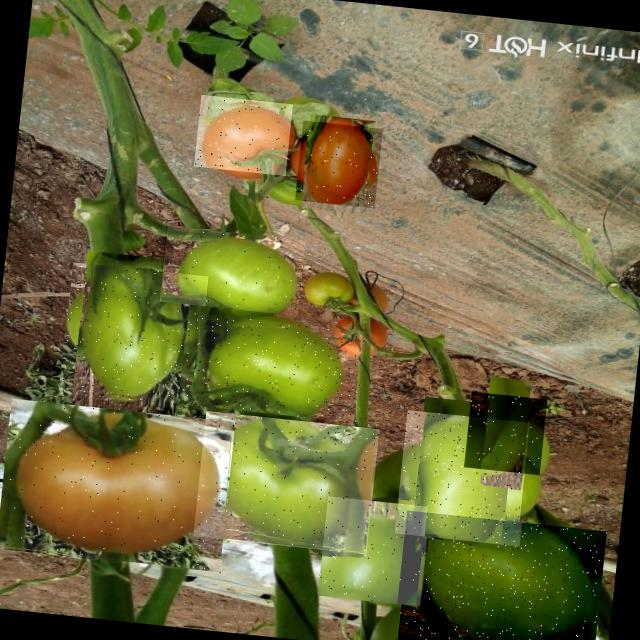Ripe Tomato: (0, 398, 237, 573), (194, 94, 292, 176), (294, 120, 382, 208)
Unripe Tomato: (392, 510, 606, 640), (192, 411, 378, 554), (58, 262, 204, 409), (190, 314, 365, 422), (394, 410, 530, 546), (156, 226, 304, 316), (317, 496, 427, 606), (463, 391, 547, 475)
